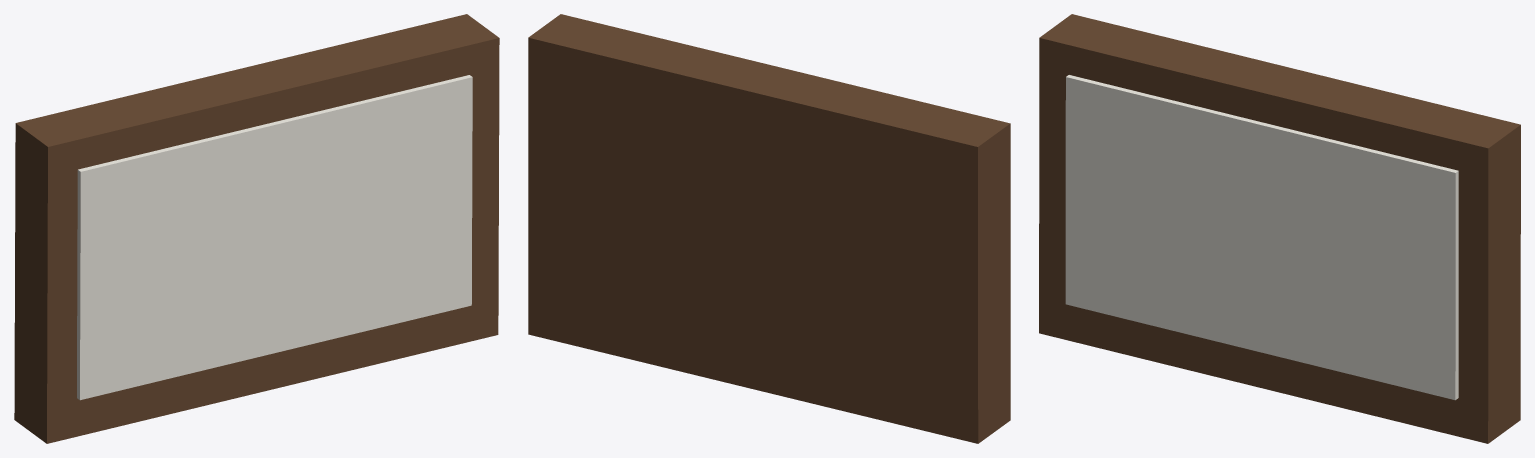
File: Cuadro.fbx
3 renders of one model, left to right at view 1: azimuth 30°, elevation 25°; view 2: azimuth 150°, elevation 25°; view 3: azimuth 330°, elevation 25°, orthographic.
Parts seen in each view (by area): view 1: Deco_Estanteria_Objetos.004; view 2: Deco_Estanteria_Objetos.004; view 3: Deco_Estanteria_Objetos.004.
Part boxes in pixels (x1,y1,x2,y2): Deco_Estanteria_Objetos.004: (14,14,499,443); Deco_Estanteria_Objetos.004: (528,14,1010,443); Deco_Estanteria_Objetos.004: (1039,14,1520,443).
Bounding box in the file's own units: 1 × 0.6307 × 0.1396.
